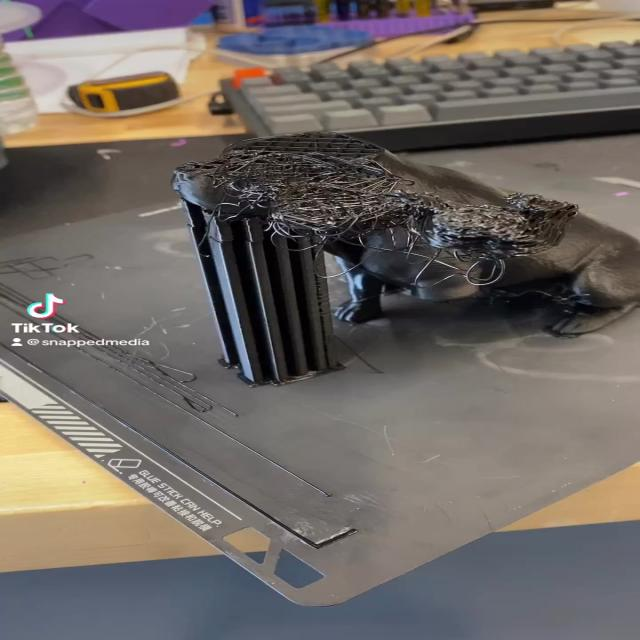spaghetti: (192, 147, 540, 290)
